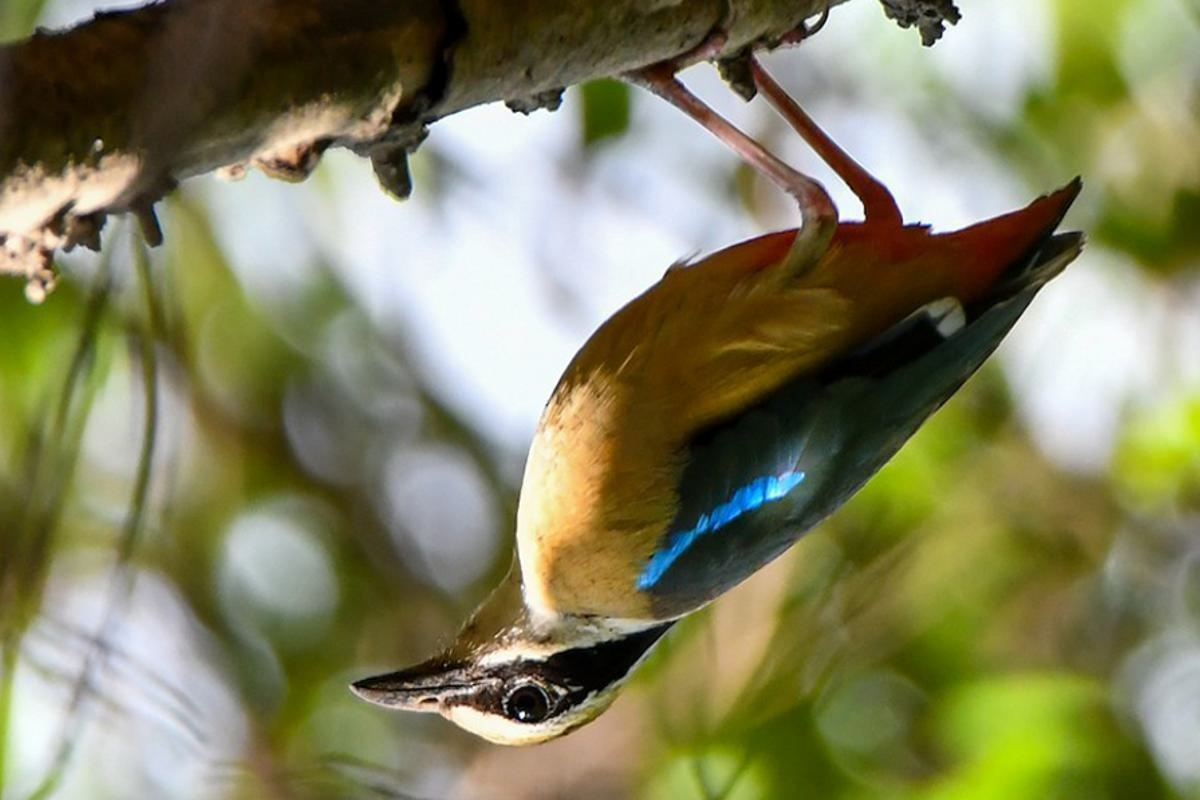pitta: (353, 144, 1099, 756)
